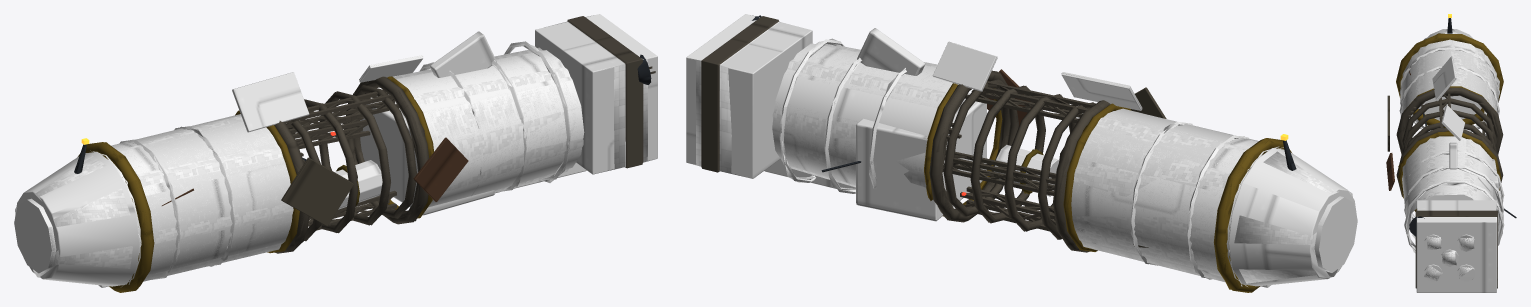
File: place_dead_hulk.glb
The picture shows the model from 3 angles, left to right: view 1: azimuth 30°, elevation 25°; view 2: azimuth 150°, elevation 25°; view 3: azimuth 270°, elevation 25°; orthographic projection. The views are drawn at different scales.
Parts seen in each view (by area): view 1: LOD0_deadmetal, LOD0_deadmetal_deep, LOD2_deadmetal, LOD1_deadmetal, LOD0_BrushedMetal, LOD1_BrushedMetal, LOD0_Livery, LOD0_deadmetal_faded, LOD2_deadmetal_deep, LOD2_BrushedMetal, LOD0_deadmetal_rust, LOD1_Livery (+2 smaller); view 2: LOD0_deadmetal, LOD0_deadmetal_deep, LOD0_BrushedMetal, LOD2_deadmetal, LOD1_deadmetal, LOD1_BrushedMetal, LOD0_Livery, LOD2_deadmetal_deep, LOD2_BrushedMetal, LOD1_Livery, LOD1_deadmetal_deep, LOD2_Livery (+1 smaller); view 3: LOD0_deadmetal_deep, LOD0_deadmetal, LOD0_BrushedMetal, LOD2_deadmetal, LOD1_deadmetal, LOD0_Livery, LOD2_deadmetal_deep, LOD0_MechanicalDark, LOD2_BrushedMetal, LOD1_BrushedMetal, LOD2_MechanicalDark, LOD1_Livery (+5 smaller).
Part boxes in pixels (x1=…): LOD0_deadmetal: x1=15, y1=50, x2=583, y2=286; LOD0_deadmetal_deep: x1=14, y1=14, x2=657, y2=287; LOD2_deadmetal: x1=15, y1=47, x2=583, y2=284; LOD1_deadmetal: x1=15, y1=51, x2=584, y2=280; LOD0_BrushedMetal: x1=274, y1=16, x2=655, y2=253; LOD1_BrushedMetal: x1=275, y1=21, x2=642, y2=251; LOD0_Livery: x1=78, y1=76, x2=433, y2=292; LOD0_deadmetal_faded: x1=281, y1=158, x2=353, y2=226; LOD2_deadmetal_deep: x1=133, y1=15, x2=654, y2=273; LOD2_BrushedMetal: x1=288, y1=76, x2=425, y2=250; LOD0_deadmetal_rust: x1=162, y1=137, x2=468, y2=205; LOD1_Livery: x1=79, y1=76, x2=433, y2=292; LOD0_deadmetal: x1=772, y1=41, x2=1356, y2=286; LOD0_deadmetal_deep: x1=686, y1=14, x2=1357, y2=287; LOD0_BrushedMetal: x1=701, y1=16, x2=1110, y2=252; LOD2_deadmetal: x1=772, y1=41, x2=1352, y2=286; LOD1_deadmetal: x1=773, y1=44, x2=1355, y2=286; LOD1_BrushedMetal: x1=701, y1=21, x2=1109, y2=252; LOD0_Livery: x1=924, y1=83, x2=1291, y2=292; LOD2_deadmetal_deep: x1=690, y1=15, x2=1246, y2=279; LOD2_BrushedMetal: x1=930, y1=71, x2=1101, y2=244; LOD1_Livery: x1=924, y1=83, x2=1290, y2=290; LOD1_deadmetal_deep: x1=779, y1=29, x2=1343, y2=277; LOD2_Livery: x1=926, y1=83, x2=1284, y2=292; LOD0_deadmetal_deep: x1=1399, y1=48, x2=1504, y2=292; LOD0_deadmetal: x1=1402, y1=29, x2=1498, y2=234; LOD0_BrushedMetal: x1=1396, y1=87, x2=1503, y2=288; LOD2_deadmetal: x1=1400, y1=28, x2=1498, y2=238; LOD1_deadmetal: x1=1402, y1=40, x2=1498, y2=229; LOD0_Livery: x1=1396, y1=34, x2=1503, y2=211; LOD2_deadmetal_deep: x1=1400, y1=49, x2=1503, y2=253; LOD0_MechanicalDark: x1=1424, y1=111, x2=1486, y2=281; LOD2_BrushedMetal: x1=1397, y1=88, x2=1502, y2=216; LOD1_BrushedMetal: x1=1397, y1=88, x2=1502, y2=287; LOD2_MechanicalDark: x1=1424, y1=236, x2=1474, y2=281; LOD1_Livery: x1=1396, y1=34, x2=1503, y2=209.
Size of what is drawn, in the model's own units: 55.2 by 14.54 by 14.97.
Materials: 20 (18 with a texture image).
